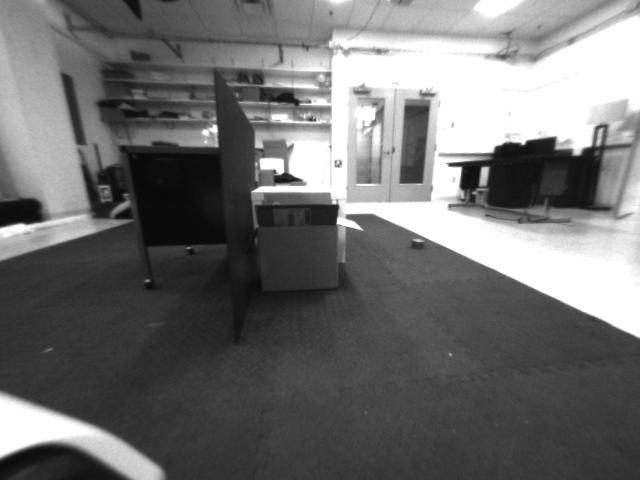dogtoy: (403, 228, 433, 260)
